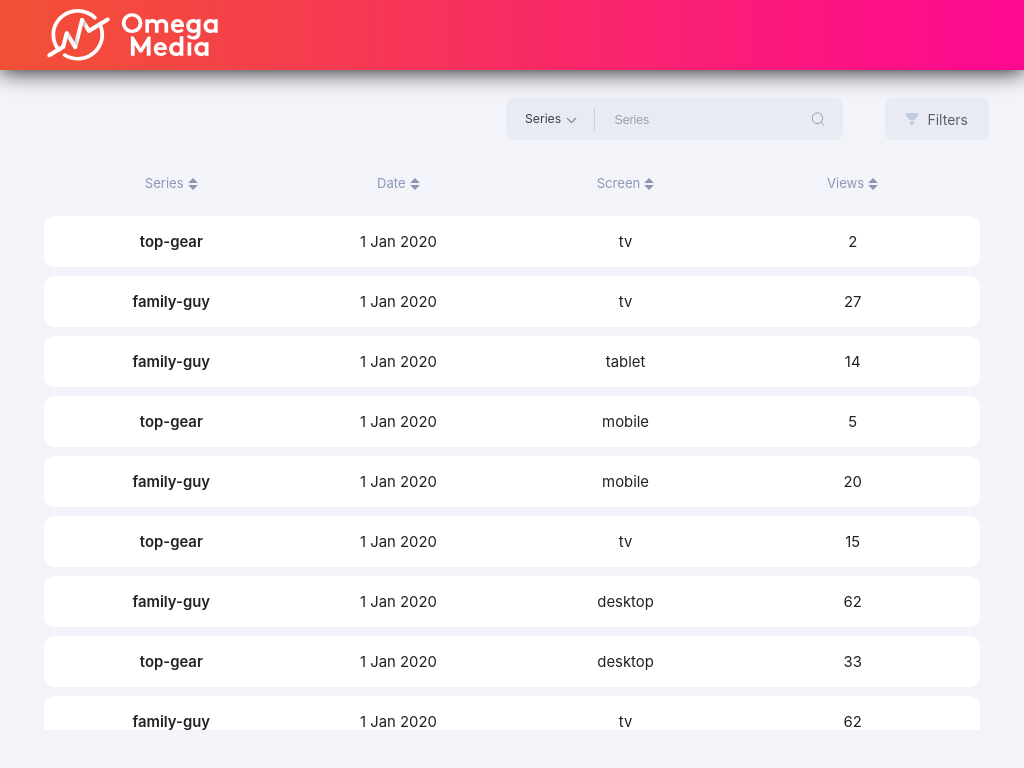
Test case: As a User     I want to See the Tvs List and details     So that i can filter, search and sort list items › Scenario: View the site page             Given I go to search for screen types             When I search for tablet             Then I can see the seri
Click the element showing "Series": (551, 119) left=525, top=111, right=577, bottom=126
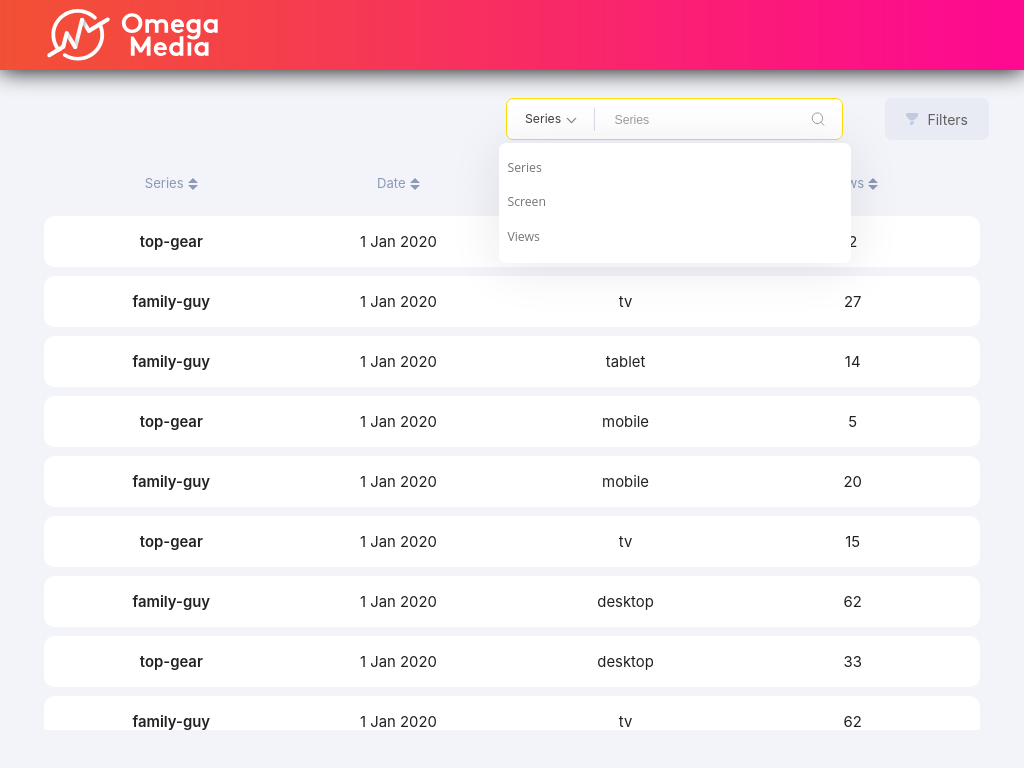
Expected: the text "Screen" is shown
Click the text "Screen": (527, 202) left=507, top=193, right=546, bottom=210
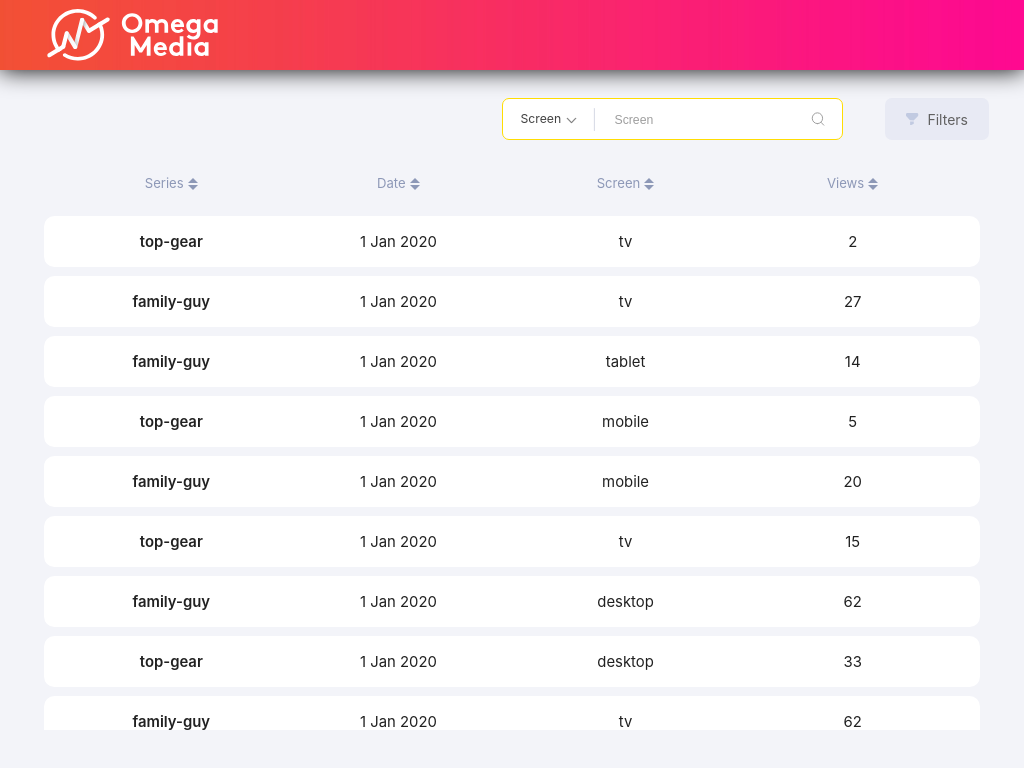
In the field with placeholder "Screen": (704, 120) left=613, top=111, right=794, bottom=128, type "tab"
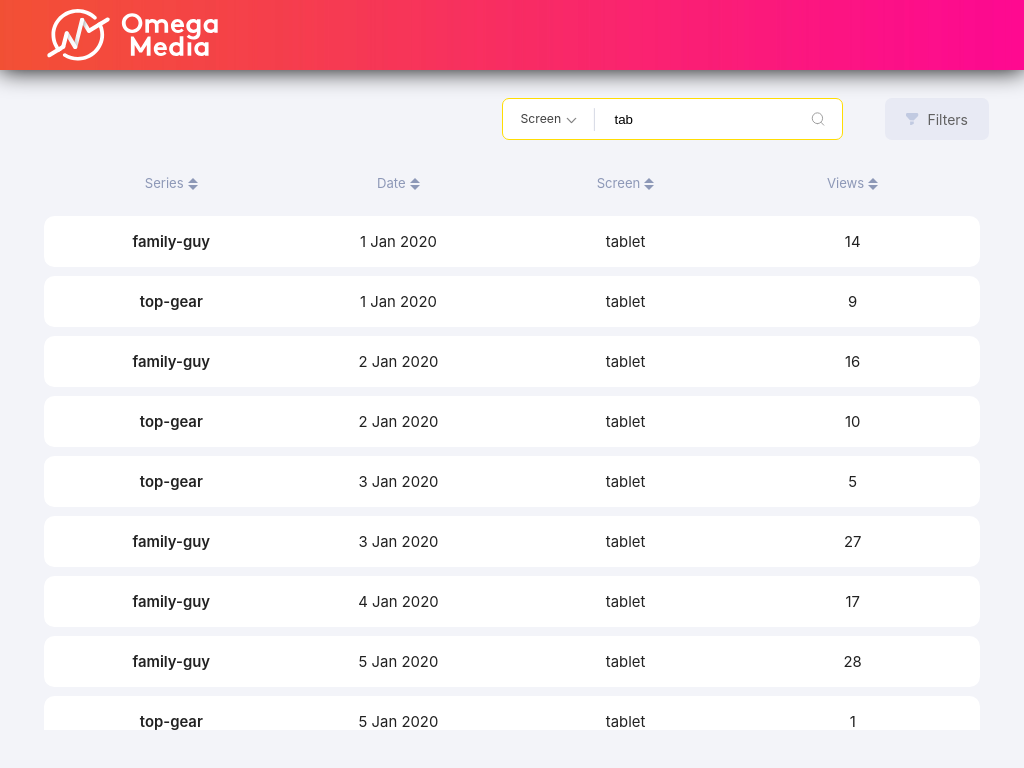
Expected: the text "tablet" next to "14" is shown, left=606, top=232, right=646, bottom=250
